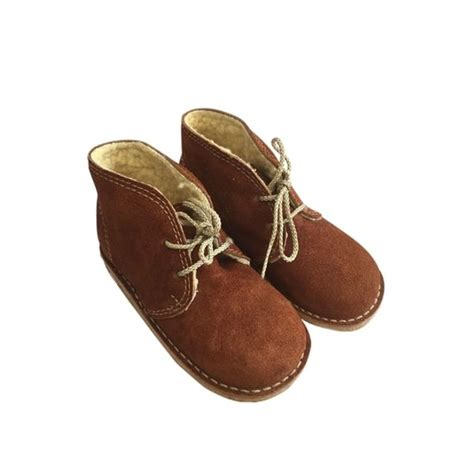gamuza: (88, 107, 383, 402)
